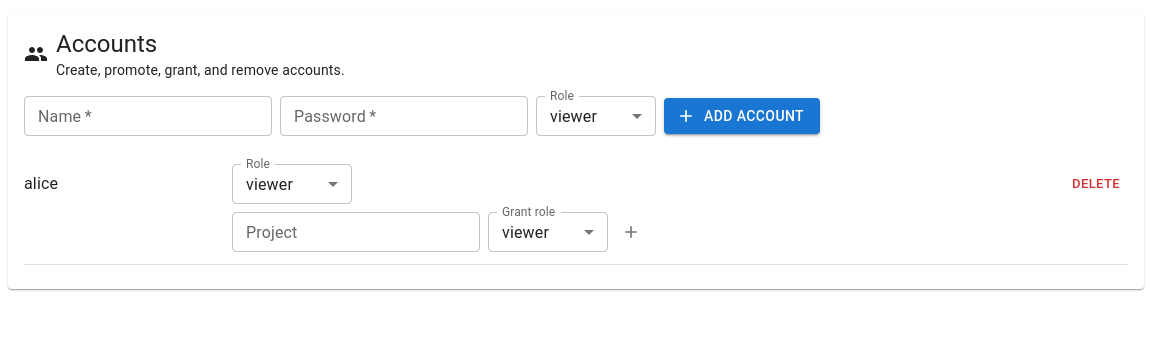
Test: changing an account role updates the row once the request succeeds
Click the dropdown named "Role". click: (270, 184)
box: x1=246 y1=174 x2=293 y2=194
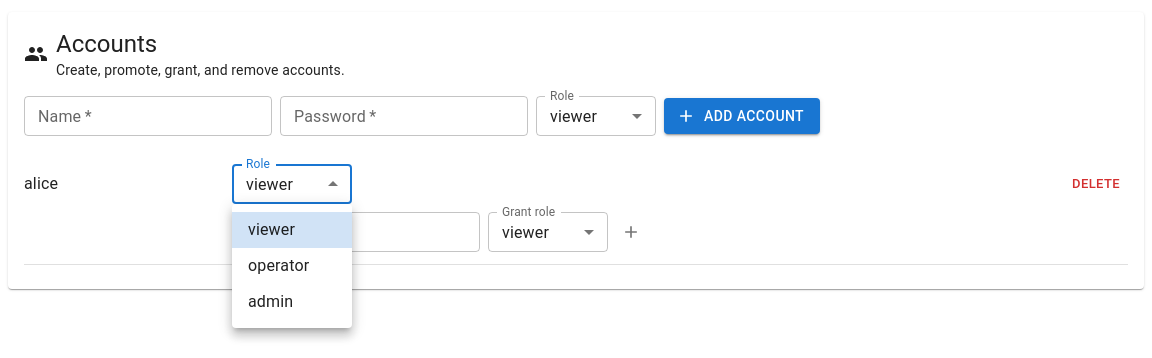
Click the option "admin". click: (271, 302)
box: x1=248 y1=292 x2=293 y2=311
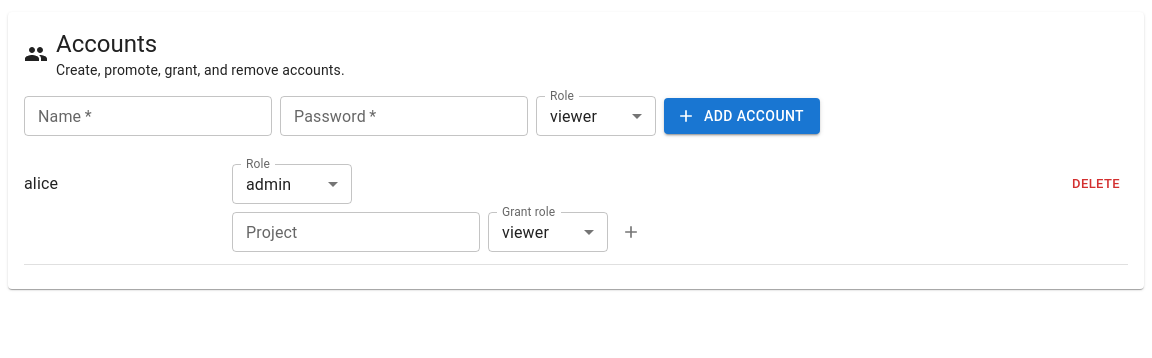
Now the dropdown named "Role" reads "admin", box x1=246 y1=174 x2=291 y2=194
